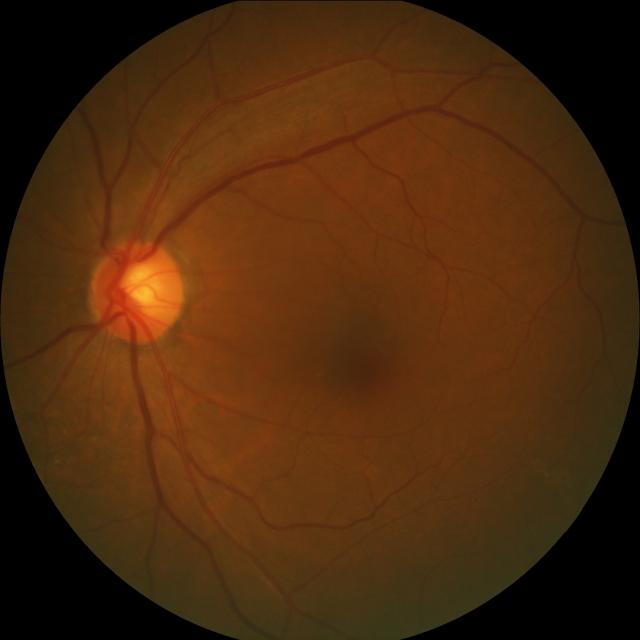OC: (117, 262, 164, 310)
OD: (86, 239, 182, 342)
